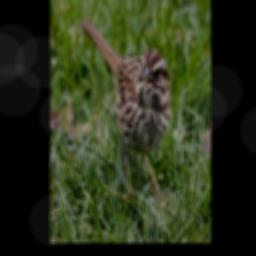Sparrow: (78, 16, 173, 189)
